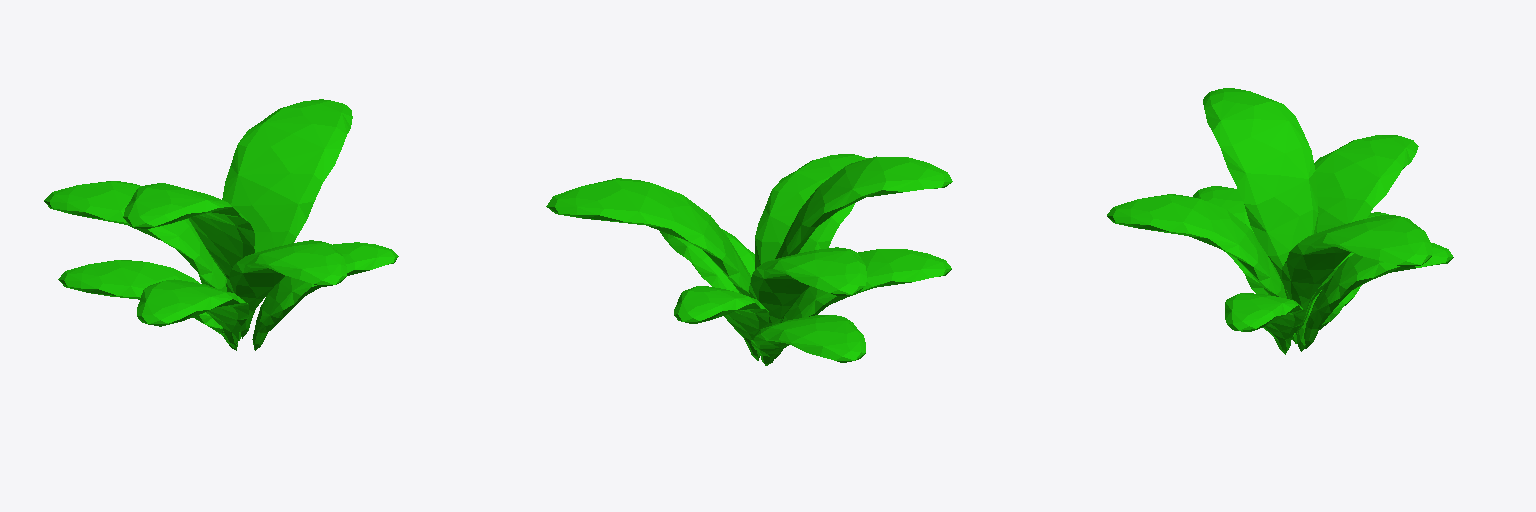
The model's file is dry_grass4.obj.
3 views of the same model, side by side, from view 1: azimuth 30°, elevation 25°; view 2: azimuth 150°, elevation 25°; view 3: azimuth 270°, elevation 25° (orthographic).
Visible parts, largest first — view 1: dry_grass4; view 2: dry_grass4; view 3: dry_grass4.
Boxes of the visible parts, <box> form: dry_grass4: <box>44,99,398,350</box>; dry_grass4: <box>546,154,952,365</box>; dry_grass4: <box>1107,88,1453,354</box>.
Bounding box in the file's own units: 3.14 × 1.96 × 3.07.